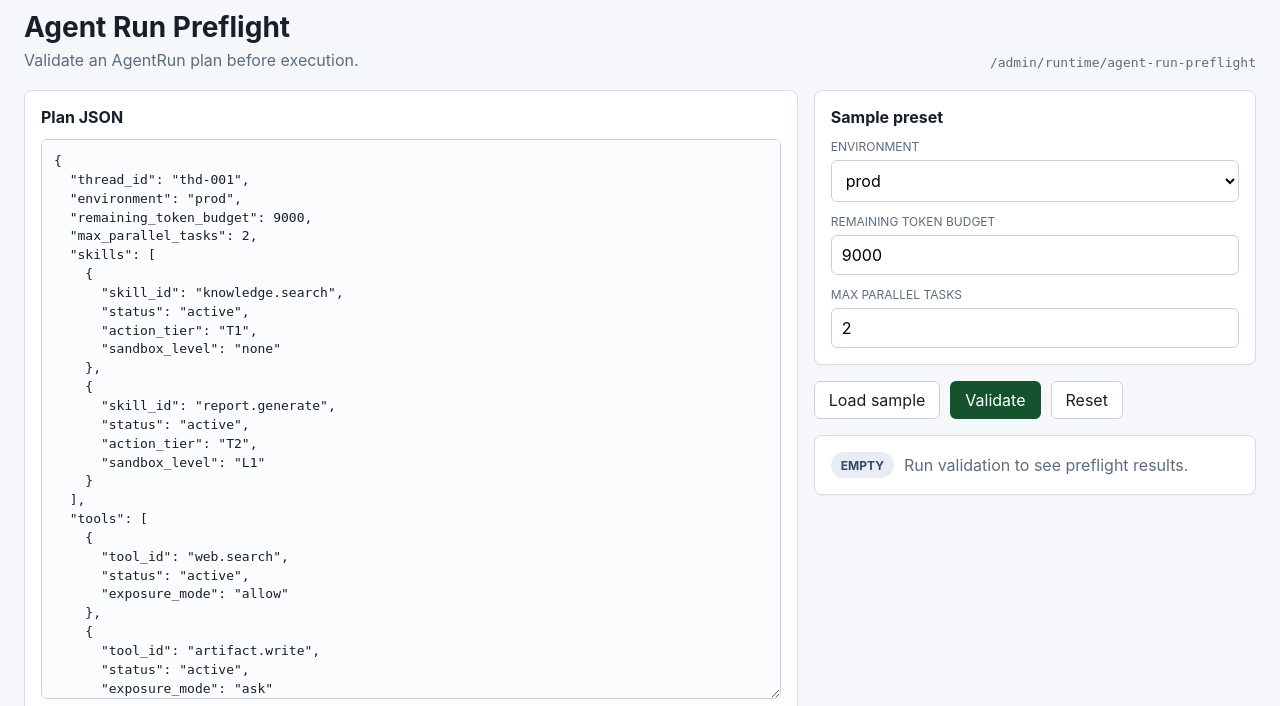
Test case: AgentRunPreflightPage › shows approval reasons
Click the button "Validate".
click(995, 400)  # box left=950, top=381, right=1040, bottom=419
(page scrolled)
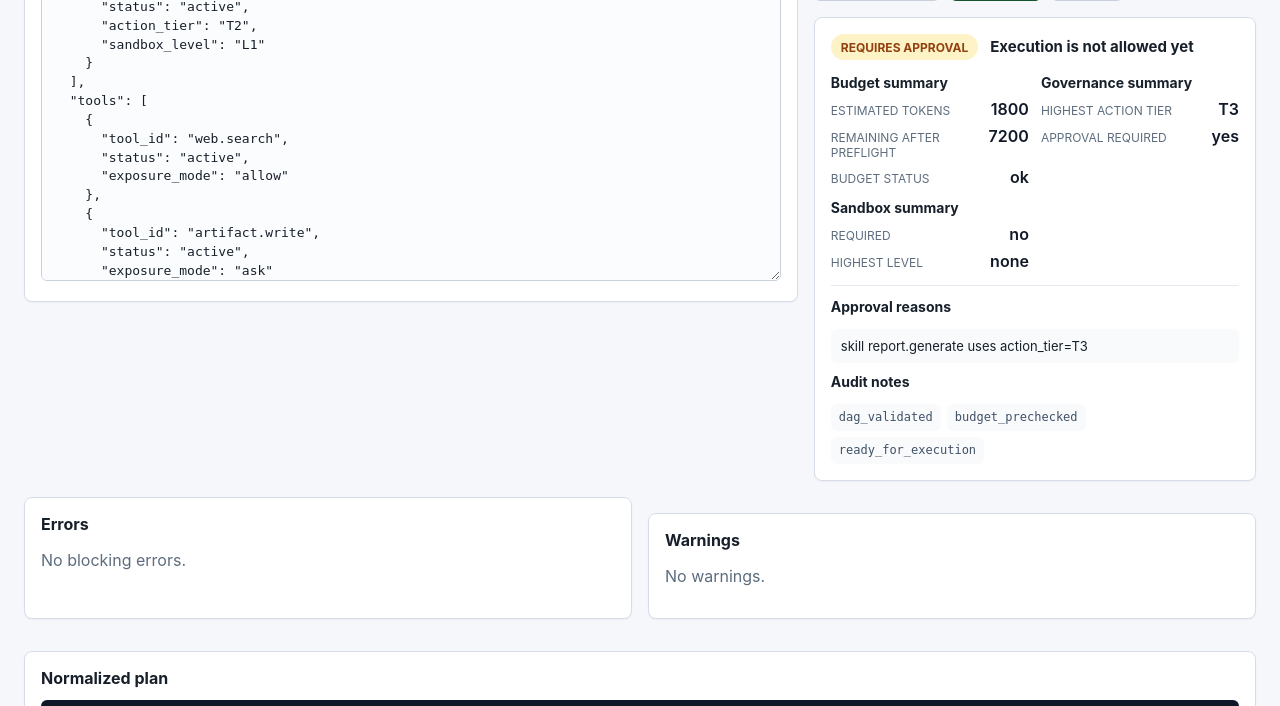
Expected: the text "requires approval" is shown, left=831, top=34, right=978, bottom=60
Expected: the list item "skill report.generate uses action_tier=T3" is shown, left=831, top=329, right=1239, bottom=363
